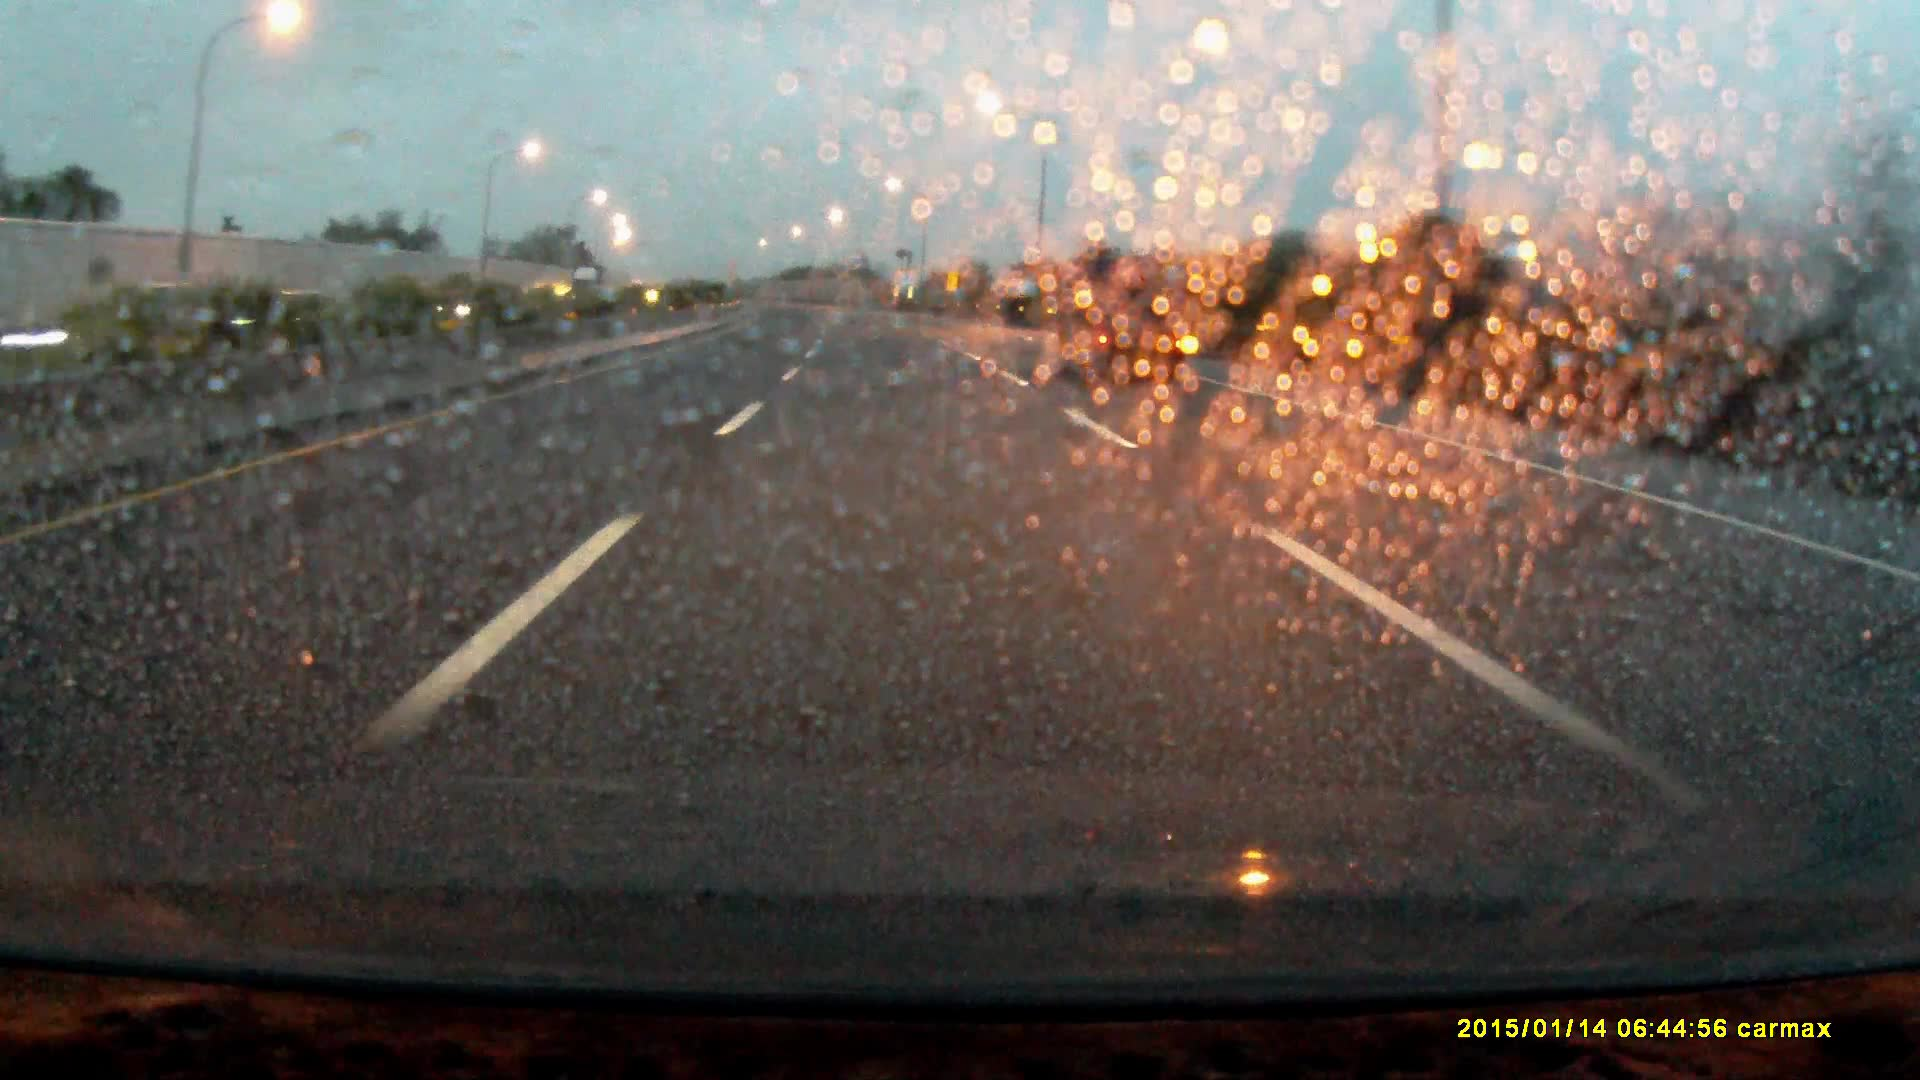vehicle: (1054, 256, 1193, 393), (571, 262, 607, 310)
